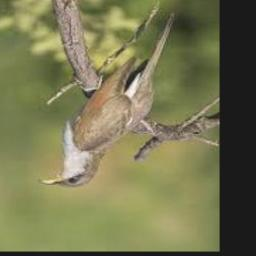Cuckoo: (38, 16, 176, 188)
